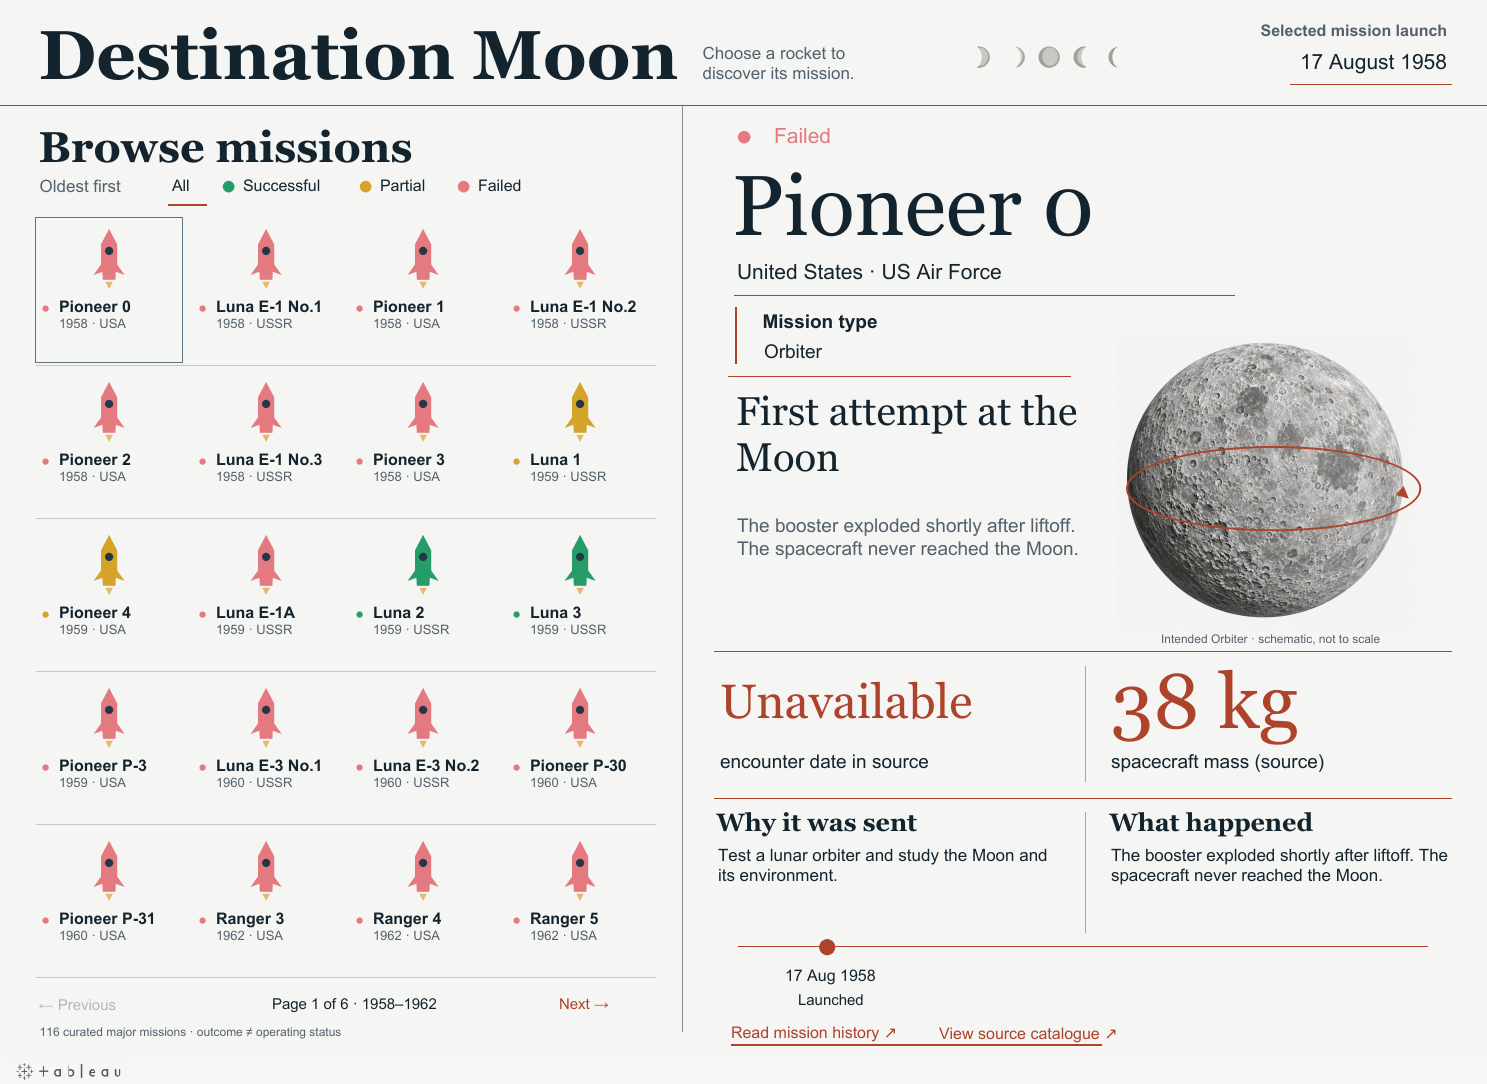

Layout of this report page (visuals, bound fields, positions):
{"tool":"tableau","page":{"name":"Destination Moon","canvas":[1488,1058],"ordinal":0},"visuals":[{"type":"text","box":[36,10,674,89]},{"type":"text","box":[1258,20,212,21]},{"type":"text","box":[700,37,227,52]},{"type":"image","param":"Image/phases.png","box":[943,42,220,32]},{"type":"worksheet","title":"Launch date","mark":"Text","box":[1190,43,262,38]},{"type":"blank","box":[1290,84,162,1]},{"type":"blank","box":[0,105,1488,1]},{"type":"blank","box":[682,106,1,926]},{"type":"text","box":[36,120,600,54]},{"type":"worksheet","title":"Selected outcome","mark":"Text","box":[770,120,480,32]},{"type":"worksheet","title":"Selected status dot","mark":"Shape","box":[732,124,24,26]},{"type":"worksheet","title":"Mission title 64","mark":"Text","box":[728,153,724,105]},{"type":"worksheet","title":"Mission title 36","mark":"Text","box":[728,153,724,105]},{"type":"worksheet","title":"Mission title 26","mark":"Text","box":[728,153,724,105]},{"type":"worksheet","title":"Filter — All","mark":"Text","box":[168,170,39,32]},{"type":"worksheet","title":"Filter — Successful","mark":"Text","box":[239,170,105,32]},{"type":"worksheet","title":"Filter — Partial","mark":"Text","box":[376,170,68,32]},{"type":"worksheet","title":"Filter — Failed","mark":"Text","box":[474,170,63,32]},{"type":"text","box":[37,174,125,24]},{"type":"image","param":"Image/dot-Successful.png","box":[222,180,13,13]},{"type":"image","param":"Image/dot-Partial.png","box":[359,180,13,13]},{"type":"image","param":"Image/dot-Failed.png","box":[457,180,13,13]},{"type":"blank","box":[168,204,39,2]},{"type":"blank","box":[239,204,105,2]},{"type":"blank","box":[376,204,68,2]},{"type":"blank","box":[474,204,63,2]},{"type":"blank","box":[35,217,148,146]},{"type":"blank","box":[192,217,148,146]},{"type":"blank","box":[349,217,148,146]},{"type":"blank","box":[506,217,148,146]},{"type":"worksheet","title":"Rocket 1","mark":"Shape","box":[73,220,72,75]},{"type":"worksheet","title":"Rocket 2","mark":"Shape","box":[230,220,72,75]},{"type":"worksheet","title":"Rocket 3","mark":"Shape","box":[387,220,72,75]},{"type":"worksheet","title":"Rocket 4","mark":"Shape","box":[544,220,72,75]},{"type":"worksheet","title":"Empty detail","mark":"Text","box":[736,226,677,110]},{"type":"worksheet","title":"Country and operator","mark":"Text","box":[733,259,719,35]},{"type":"blank","box":[734,295,501,1]},{"type":"worksheet","title":"Mission label 1","mark":"Text","box":[55,297,127,64]},{"type":"worksheet","title":"Mission label 2","mark":"Text","box":[212,297,127,64]},{"type":"worksheet","title":"Mission label 3","mark":"Text","box":[369,297,127,64]},{"type":"worksheet","title":"Mission label 4","mark":"Text","box":[526,297,127,64]},{"type":"worksheet","title":"Status dot 1","mark":"Shape","box":[39,301,13,15]},{"type":"worksheet","title":"Status dot 2","mark":"Shape","box":[196,301,13,15]},{"type":"worksheet","title":"Status dot 3","mark":"Shape","box":[353,301,13,15]},{"type":"worksheet","title":"Status dot 4","mark":"Shape","box":[510,301,13,15]},{"type":"blank","box":[735,307,2,57]},{"type":"text","box":[760,309,180,25]},{"type":"image","param":"Image/path-flyby.png","box":[1096,331,350,300]},{"type":"image","param":"Image/path-orbit.png","box":[1096,331,350,300]},{"type":"image","param":"Image/path-impact.png","box":[1096,331,350,300]},{"type":"image","param":"Image/path-impact.png","box":[1096,331,350,300]},{"type":"image","param":"Image/path-return.png","box":[1096,331,350,300]},{"type":"image","param":"Image/moon.png","box":[1115,331,300,300]},{"type":"worksheet","title":"Mission type","mark":"Text","box":[760,338,670,28]},{"type":"worksheet","title":"Empty gallery","mark":"Text","box":[55,340,580,200]},{"type":"blank","box":[36,365,620,1]},{"type":"blank","box":[35,370,148,146]},{"type":"blank","box":[192,370,148,146]},{"type":"blank","box":[349,370,148,146]},{"type":"blank","box":[506,370,148,146]},{"type":"worksheet","title":"Rocket 5","mark":"Shape","box":[73,373,72,75]},{"type":"worksheet","title":"Rocket 6","mark":"Shape","box":[230,373,72,75]},{"type":"worksheet","title":"Rocket 7","mark":"Shape","box":[387,373,72,75]},{"type":"worksheet","title":"Rocket 8","mark":"Shape","box":[544,373,72,75]},{"type":"blank","box":[728,376,343,1]},{"type":"worksheet","title":"Mission headline","mark":"Text","box":[732,388,357,109]},{"type":"worksheet","title":"Mission label 5","mark":"Text","box":[55,450,127,64]},{"type":"worksheet","title":"Mission label 6","mark":"Text","box":[212,450,127,64]},{"type":"worksheet","title":"Mission label 7","mark":"Text","box":[369,450,127,64]},{"type":"worksheet","title":"Mission label 8","mark":"Text","box":[526,450,127,64]},{"type":"worksheet","title":"Status dot 5","mark":"Shape","box":[39,454,13,15]},{"type":"worksheet","title":"Status dot 6","mark":"Shape","box":[196,454,13,15]},{"type":"worksheet","title":"Status dot 7","mark":"Shape","box":[353,454,13,15]},{"type":"worksheet","title":"Status dot 8","mark":"Shape","box":[510,454,13,15]},{"type":"worksheet","title":"Mission summary","mark":"Text","box":[733,514,357,116]},{"type":"blank","box":[36,518,620,1]},{"type":"blank","box":[35,523,148,146]},{"type":"blank","box":[192,523,148,146]},{"type":"blank","box":[349,523,148,146]},{"type":"blank","box":[506,523,148,146]},{"type":"worksheet","title":"Rocket 9","mark":"Shape","box":[73,526,72,75]},{"type":"worksheet","title":"Rocket 10","mark":"Shape","box":[230,526,72,75]},{"type":"worksheet","title":"Rocket 11","mark":"Shape","box":[387,526,72,75]},{"type":"worksheet","title":"Rocket 12","mark":"Shape","box":[544,526,72,75]},{"type":"worksheet","title":"Mission label 9","mark":"Text","box":[55,603,127,64]},{"type":"worksheet","title":"Mission label 10","mark":"Text","box":[212,603,127,64]},{"type":"worksheet","title":"Mission label 11","mark":"Text","box":[369,603,127,64]},{"type":"worksheet","title":"Mission label 12","mark":"Text","box":[526,603,127,64]},{"type":"worksheet","title":"Status dot 9","mark":"Shape","box":[39,607,13,15]},{"type":"worksheet","title":"Status dot 10","mark":"Shape","box":[196,607,13,15]},{"type":"worksheet","title":"Status dot 11","mark":"Shape","box":[353,607,13,15]},{"type":"worksheet","title":"Status dot 12","mark":"Shape","box":[510,607,13,15]},{"type":"worksheet","title":"Schematic caption","mark":"Text","box":[1091,627,361,24]},{"type":"blank","box":[714,651,738,1]},{"type":"worksheet","title":"Highlight 1 value 58","mark":"Text","box":[716,655,345,93]},{"type":"worksheet","title":"Highlight 1 value 36","mark":"Text","box":[716,655,345,93]},{"type":"worksheet","title":"Highlight 1 value 25","mark":"Text","box":[716,655,345,93]},{"type":"worksheet","title":"Highlight 2 value 58","mark":"Text","box":[1107,655,345,93]},{"type":"worksheet","title":"Highlight 2 value 36","mark":"Text","box":[1107,655,345,93]},{"type":"worksheet","title":"Highlight 2 value 25","mark":"Text","box":[1107,655,345,93]},{"type":"blank","box":[1085,666,1,116]},{"type":"blank","box":[36,671,620,1]},{"type":"blank","box":[35,676,148,146]},{"type":"blank","box":[192,676,148,146]},{"type":"blank","box":[349,676,148,146]},{"type":"blank","box":[506,676,148,146]},{"type":"worksheet","title":"Rocket 13","mark":"Shape","box":[73,679,72,75]},{"type":"worksheet","title":"Rocket 14","mark":"Shape","box":[230,679,72,75]},{"type":"worksheet","title":"Rocket 15","mark":"Shape","box":[387,679,72,75]},{"type":"worksheet","title":"Rocket 16","mark":"Shape","box":[544,679,72,75]},{"type":"worksheet","title":"Highlight 1 caption","mark":"Text","box":[716,750,345,42]},{"type":"worksheet","title":"Highlight 2 caption","mark":"Text","box":[1107,750,345,42]},{"type":"worksheet","title":"Mission label 13","mark":"Text","box":[55,756,127,64]},{"type":"worksheet","title":"Mission label 14","mark":"Text","box":[212,756,127,64]},{"type":"worksheet","title":"Mission label 15","mark":"Text","box":[369,756,127,64]},{"type":"worksheet","title":"Mission label 16","mark":"Text","box":[526,756,127,64]},{"type":"worksheet","title":"Status dot 13","mark":"Shape","box":[39,760,13,15]},{"type":"worksheet","title":"Status dot 14","mark":"Shape","box":[196,760,13,15]},{"type":"worksheet","title":"Status dot 15","mark":"Shape","box":[353,760,13,15]},{"type":"worksheet","title":"Status dot 16","mark":"Shape","box":[510,760,13,15]},{"type":"blank","box":[714,798,738,1]},{"type":"text","box":[714,807,350,31]},{"type":"text","box":[1107,807,345,31]},{"type":"blank","box":[1085,812,1,121]},{"type":"blank","box":[36,824,620,1]},{"type":"blank","box":[35,829,148,146]},{"type":"blank","box":[192,829,148,146]},{"type":"blank","box":[349,829,148,146]},{"type":"blank","box":[506,829,148,146]},{"type":"worksheet","title":"Rocket 17","mark":"Shape","box":[73,832,72,75]},{"type":"worksheet","title":"Rocket 18","mark":"Shape","box":[230,832,72,75]},{"type":"worksheet","title":"Rocket 19","mark":"Shape","box":[387,832,72,75]},{"type":"worksheet","title":"Rocket 20","mark":"Shape","box":[544,832,72,75]},{"type":"worksheet","title":"Mission purpose","mark":"Text","box":[714,845,350,88]},{"type":"worksheet","title":"Mission result","mark":"Text","box":[1107,845,345,88]},{"type":"worksheet","title":"Mission label 17","mark":"Text","box":[55,909,127,64]},{"type":"worksheet","title":"Mission label 18","mark":"Text","box":[212,909,127,64]},{"type":"worksheet","title":"Mission label 19","mark":"Text","box":[369,909,127,64]},{"type":"worksheet","title":"Mission label 20","mark":"Text","box":[526,909,127,64]},{"type":"worksheet","title":"Status dot 17","mark":"Shape","box":[39,913,13,15]},{"type":"worksheet","title":"Status dot 18","mark":"Shape","box":[196,913,13,15]},{"type":"worksheet","title":"Status dot 19","mark":"Shape","box":[353,913,13,15]},{"type":"worksheet","title":"Status dot 20","mark":"Shape","box":[510,913,13,15]},{"type":"image","param":"Image/event.png","box":[818,938,18,18]},{"type":"image","param":"Image/event.png","box":[1070,938,18,18]},{"type":"image","param":"Image/event.png","box":[1322,938,18,18]},{"type":"blank","box":[738,946,690,1]},{"type":"worksheet","title":"Event 1 date","mark":"Text","box":[714,962,234,27]},{"type":"worksheet","title":"Event 2 date","mark":"Text","box":[966,962,234,27]},{"type":"worksheet","title":"Event 3 date","mark":"Text","box":[1218,962,234,27]},{"type":"blank","box":[36,977,620,1]},{"type":"worksheet","title":"Previous page","mark":"Text","box":[36,988,112,33]},{"type":"worksheet","title":"Page and years","mark":"Text","box":[176,988,358,33]},{"type":"worksheet","title":"Next page","mark":"Text","box":[555,988,96,33]},{"type":"text","box":[36,990,112,29]},{"type":"text","box":[555,990,96,29]},{"type":"worksheet","title":"Event 1 label","mark":"Text","box":[714,991,234,29]},{"type":"worksheet","title":"Event 2 label","mark":"Text","box":[966,991,234,29]},{"type":"worksheet","title":"Event 3 label","mark":"Text","box":[1218,991,234,29]},{"type":"worksheet","title":"Read mission history","mark":"Text","box":[727,1018,260,29]},{"type":"worksheet","title":"Additional source","mark":"Text","box":[935,1019,300,29]},{"type":"text","box":[37,1022,623,20]},{"type":"blank","box":[731,1044,371,2]}]}

Visuals, with their boxes on the page's 1488x1058 design canvas (x1, y1, x2, y2). These are canvas units, not pixel positions in the 1487x1084 screenshot, which may show the page scaled, cropped or inside an application window:
text: 36 10 710 99
text: 1258 20 1470 41
text: 700 37 927 89
image: 943 42 1163 74
"Launch date" worksheet (Text marks): 1190 43 1452 81
blank: 1290 84 1452 85
blank: 0 105 1488 106
blank: 682 106 683 1032
text: 36 120 636 174
"Selected outcome" worksheet (Text marks): 770 120 1250 152
"Selected status dot" worksheet (Shape marks): 732 124 756 150
"Mission title 64" worksheet (Text marks): 728 153 1452 258
"Mission title 36" worksheet (Text marks): 728 153 1452 258
"Mission title 26" worksheet (Text marks): 728 153 1452 258
"Filter — All" worksheet (Text marks): 168 170 207 202
"Filter — Successful" worksheet (Text marks): 239 170 344 202
"Filter — Partial" worksheet (Text marks): 376 170 444 202
"Filter — Failed" worksheet (Text marks): 474 170 537 202
text: 37 174 162 198
image: 222 180 235 193
image: 359 180 372 193
image: 457 180 470 193
blank: 168 204 207 206
blank: 239 204 344 206
blank: 376 204 444 206
blank: 474 204 537 206
blank: 35 217 183 363
blank: 192 217 340 363
blank: 349 217 497 363
blank: 506 217 654 363
"Rocket 1" worksheet (Shape marks): 73 220 145 295
"Rocket 2" worksheet (Shape marks): 230 220 302 295
"Rocket 3" worksheet (Shape marks): 387 220 459 295
"Rocket 4" worksheet (Shape marks): 544 220 616 295
"Empty detail" worksheet (Text marks): 736 226 1413 336
"Country and operator" worksheet (Text marks): 733 259 1452 294
blank: 734 295 1235 296
"Mission label 1" worksheet (Text marks): 55 297 182 361
"Mission label 2" worksheet (Text marks): 212 297 339 361
"Mission label 3" worksheet (Text marks): 369 297 496 361
"Mission label 4" worksheet (Text marks): 526 297 653 361
"Status dot 1" worksheet (Shape marks): 39 301 52 316
"Status dot 2" worksheet (Shape marks): 196 301 209 316
"Status dot 3" worksheet (Shape marks): 353 301 366 316
"Status dot 4" worksheet (Shape marks): 510 301 523 316
blank: 735 307 737 364
text: 760 309 940 334
image: 1096 331 1446 631
image: 1096 331 1446 631
image: 1096 331 1446 631
image: 1096 331 1446 631
image: 1096 331 1446 631
image: 1115 331 1415 631
"Mission type" worksheet (Text marks): 760 338 1430 366
"Empty gallery" worksheet (Text marks): 55 340 635 540
blank: 36 365 656 366
blank: 35 370 183 516
blank: 192 370 340 516
blank: 349 370 497 516
blank: 506 370 654 516
"Rocket 5" worksheet (Shape marks): 73 373 145 448
"Rocket 6" worksheet (Shape marks): 230 373 302 448
"Rocket 7" worksheet (Shape marks): 387 373 459 448
"Rocket 8" worksheet (Shape marks): 544 373 616 448
blank: 728 376 1071 377
"Mission headline" worksheet (Text marks): 732 388 1089 497
"Mission label 5" worksheet (Text marks): 55 450 182 514
"Mission label 6" worksheet (Text marks): 212 450 339 514
"Mission label 7" worksheet (Text marks): 369 450 496 514
"Mission label 8" worksheet (Text marks): 526 450 653 514
"Status dot 5" worksheet (Shape marks): 39 454 52 469
"Status dot 6" worksheet (Shape marks): 196 454 209 469
"Status dot 7" worksheet (Shape marks): 353 454 366 469
"Status dot 8" worksheet (Shape marks): 510 454 523 469
"Mission summary" worksheet (Text marks): 733 514 1090 630
blank: 36 518 656 519
blank: 35 523 183 669
blank: 192 523 340 669
blank: 349 523 497 669
blank: 506 523 654 669
"Rocket 9" worksheet (Shape marks): 73 526 145 601
"Rocket 10" worksheet (Shape marks): 230 526 302 601
"Rocket 11" worksheet (Shape marks): 387 526 459 601
"Rocket 12" worksheet (Shape marks): 544 526 616 601
"Mission label 9" worksheet (Text marks): 55 603 182 667
"Mission label 10" worksheet (Text marks): 212 603 339 667
"Mission label 11" worksheet (Text marks): 369 603 496 667
"Mission label 12" worksheet (Text marks): 526 603 653 667
"Status dot 9" worksheet (Shape marks): 39 607 52 622
"Status dot 10" worksheet (Shape marks): 196 607 209 622
"Status dot 11" worksheet (Shape marks): 353 607 366 622
"Status dot 12" worksheet (Shape marks): 510 607 523 622
"Schematic caption" worksheet (Text marks): 1091 627 1452 651
blank: 714 651 1452 652
"Highlight 1 value 58" worksheet (Text marks): 716 655 1061 748
"Highlight 1 value 36" worksheet (Text marks): 716 655 1061 748
"Highlight 1 value 25" worksheet (Text marks): 716 655 1061 748
"Highlight 2 value 58" worksheet (Text marks): 1107 655 1452 748
"Highlight 2 value 36" worksheet (Text marks): 1107 655 1452 748
"Highlight 2 value 25" worksheet (Text marks): 1107 655 1452 748
blank: 1085 666 1086 782
blank: 36 671 656 672
blank: 35 676 183 822
blank: 192 676 340 822
blank: 349 676 497 822
blank: 506 676 654 822
"Rocket 13" worksheet (Shape marks): 73 679 145 754
"Rocket 14" worksheet (Shape marks): 230 679 302 754
"Rocket 15" worksheet (Shape marks): 387 679 459 754
"Rocket 16" worksheet (Shape marks): 544 679 616 754
"Highlight 1 caption" worksheet (Text marks): 716 750 1061 792
"Highlight 2 caption" worksheet (Text marks): 1107 750 1452 792
"Mission label 13" worksheet (Text marks): 55 756 182 820
"Mission label 14" worksheet (Text marks): 212 756 339 820
"Mission label 15" worksheet (Text marks): 369 756 496 820
"Mission label 16" worksheet (Text marks): 526 756 653 820
"Status dot 13" worksheet (Shape marks): 39 760 52 775
"Status dot 14" worksheet (Shape marks): 196 760 209 775
"Status dot 15" worksheet (Shape marks): 353 760 366 775
"Status dot 16" worksheet (Shape marks): 510 760 523 775
blank: 714 798 1452 799
text: 714 807 1064 838
text: 1107 807 1452 838
blank: 1085 812 1086 933
blank: 36 824 656 825
blank: 35 829 183 975
blank: 192 829 340 975
blank: 349 829 497 975
blank: 506 829 654 975
"Rocket 17" worksheet (Shape marks): 73 832 145 907
"Rocket 18" worksheet (Shape marks): 230 832 302 907
"Rocket 19" worksheet (Shape marks): 387 832 459 907
"Rocket 20" worksheet (Shape marks): 544 832 616 907
"Mission purpose" worksheet (Text marks): 714 845 1064 933
"Mission result" worksheet (Text marks): 1107 845 1452 933
"Mission label 17" worksheet (Text marks): 55 909 182 973
"Mission label 18" worksheet (Text marks): 212 909 339 973
"Mission label 19" worksheet (Text marks): 369 909 496 973
"Mission label 20" worksheet (Text marks): 526 909 653 973
"Status dot 17" worksheet (Shape marks): 39 913 52 928
"Status dot 18" worksheet (Shape marks): 196 913 209 928
"Status dot 19" worksheet (Shape marks): 353 913 366 928
"Status dot 20" worksheet (Shape marks): 510 913 523 928
image: 818 938 836 956
image: 1070 938 1088 956
image: 1322 938 1340 956
blank: 738 946 1428 947
"Event 1 date" worksheet (Text marks): 714 962 948 989
"Event 2 date" worksheet (Text marks): 966 962 1200 989
"Event 3 date" worksheet (Text marks): 1218 962 1452 989
blank: 36 977 656 978
"Previous page" worksheet (Text marks): 36 988 148 1021
"Page and years" worksheet (Text marks): 176 988 534 1021
"Next page" worksheet (Text marks): 555 988 651 1021
text: 36 990 148 1019
text: 555 990 651 1019
"Event 1 label" worksheet (Text marks): 714 991 948 1020
"Event 2 label" worksheet (Text marks): 966 991 1200 1020
"Event 3 label" worksheet (Text marks): 1218 991 1452 1020
"Read mission history" worksheet (Text marks): 727 1018 987 1047
"Additional source" worksheet (Text marks): 935 1019 1235 1048
text: 37 1022 660 1042
blank: 731 1044 1102 1046
